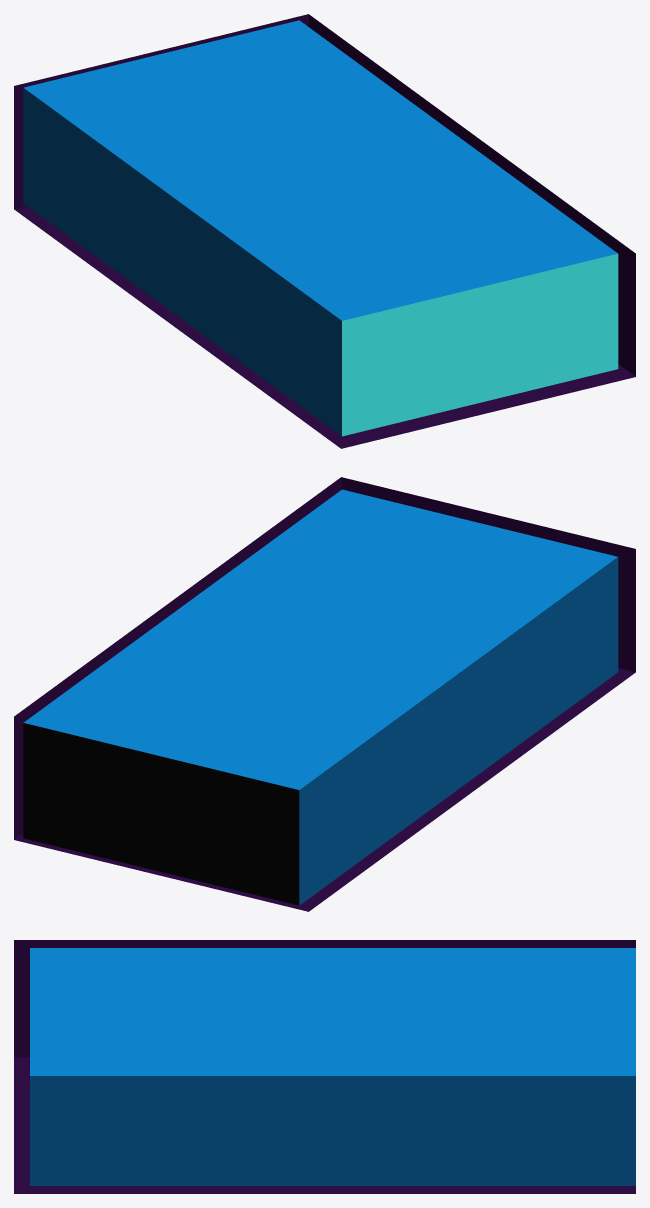
File: Step001.FBX
3 renders of one model, top to bottom at view 1: azimuth 30°, elevation 25°; view 2: azimuth 150°, elevation 25°; view 3: azimuth 270°, elevation 25°, orthographic. The views are drawn at different scales.
Visible parts, largest first — view 1: Box001; view 2: Box001; view 3: Box001.
Part boxes in pixels (left/top/right/bottom): Box001: left=14, top=14, right=635, bottom=448; Box001: left=14, top=477, right=635, bottom=911; Box001: left=14, top=940, right=635, bottom=1193.
Bounding box in the file's own units: 53.39 × 21.35 × 103.
Materials: 1 (1 with a texture image).
